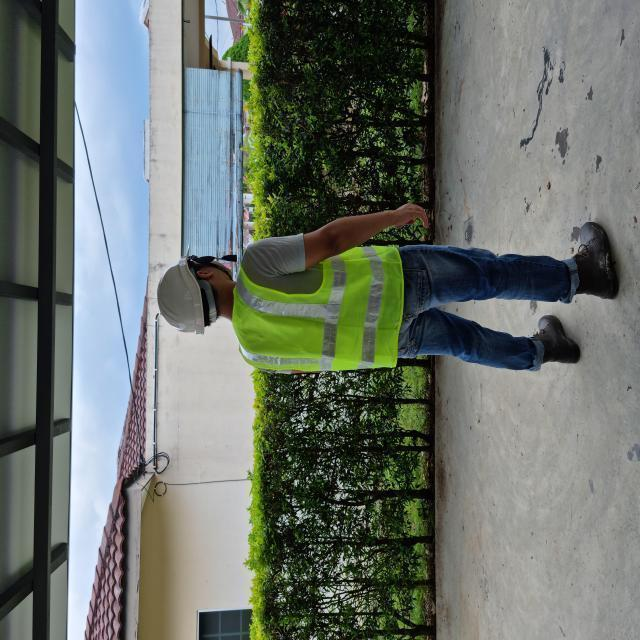Boots: (566, 215, 621, 306), (532, 312, 583, 374)
Helmet: (153, 252, 206, 339)
Person: (140, 182, 638, 391)
Vest: (234, 245, 408, 377)
